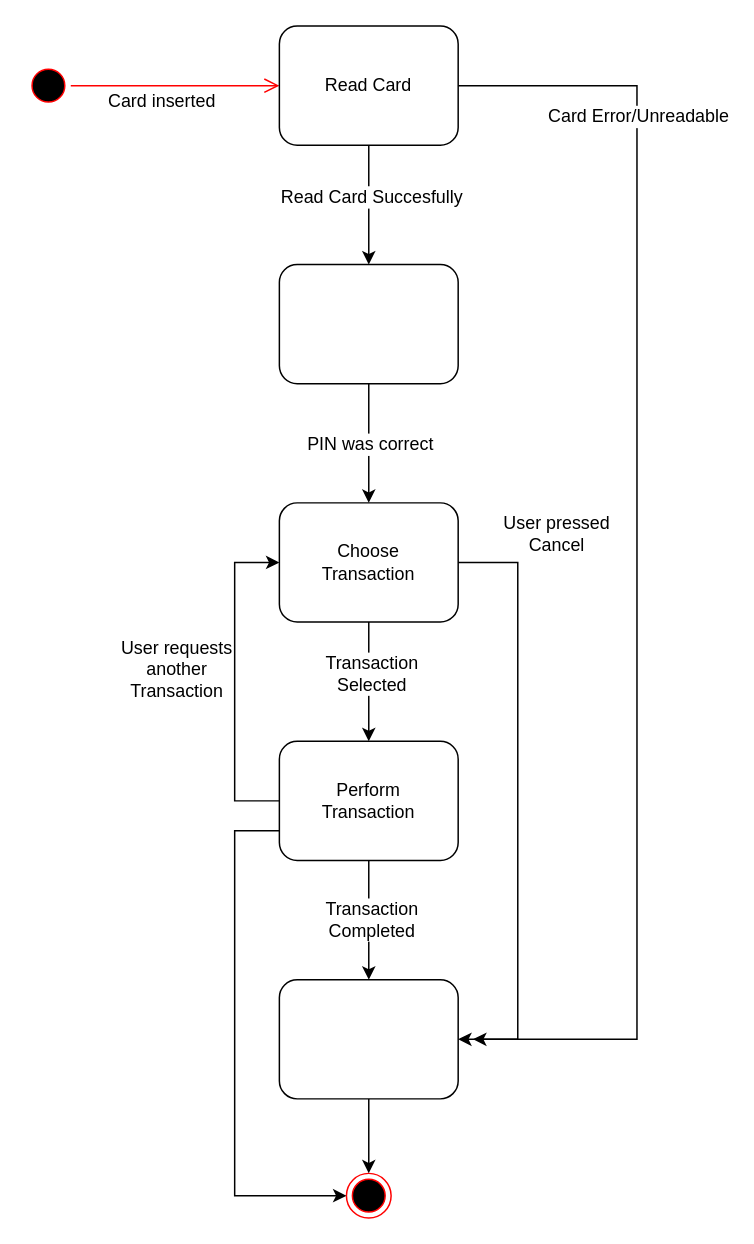
Some shapes in this 754 by 1244 pixel diagram are drawn without their labels. Here are the shapes that lost their labels. From the top down, the centre of each, then its label:
At (x=368, y=323): "Read PIN".
At (x=368, y=1038): "Eject Card".
